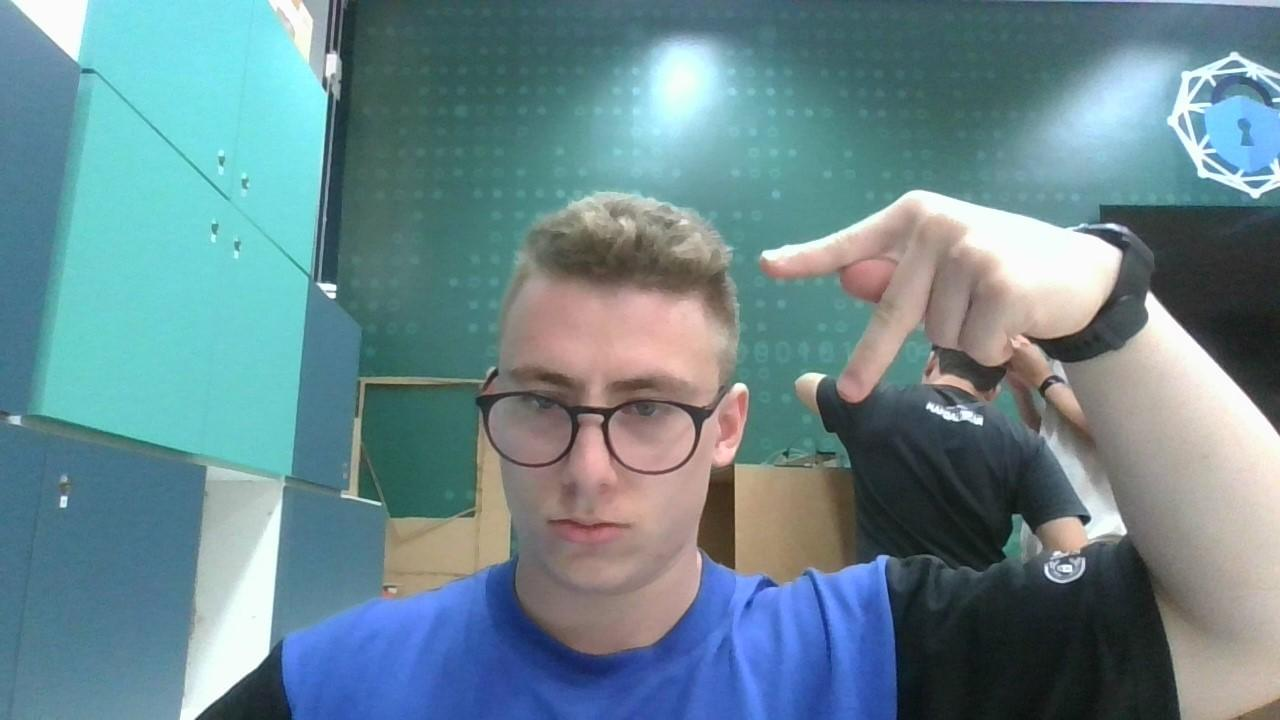P: (744, 186, 1096, 408)
